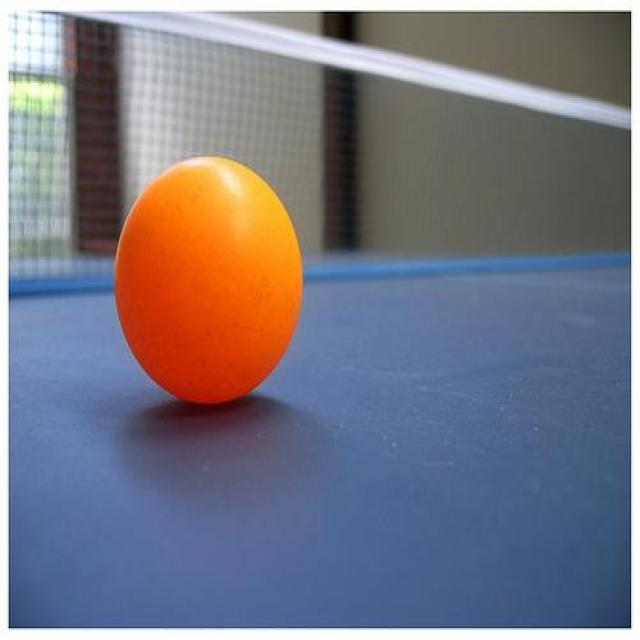ping-pong-ball: (111, 152, 306, 410)
